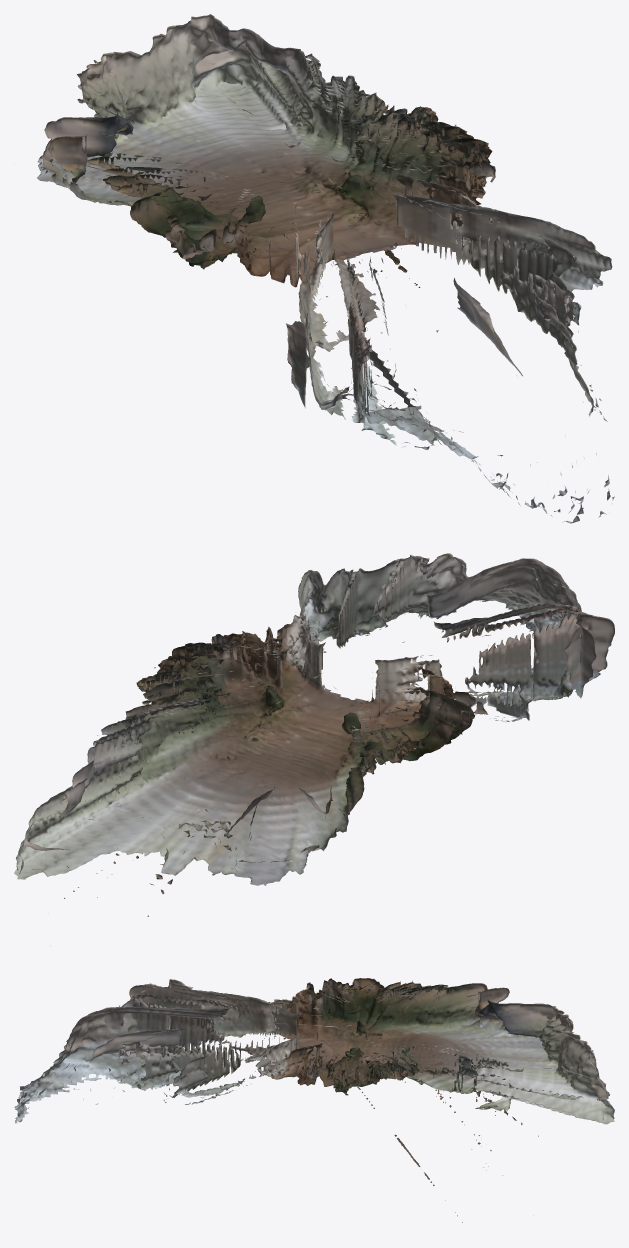
Rendered from world-1769836379166.glb.
The picture shows the model from 3 angles, top to bottom: view 1: azimuth 30°, elevation 25°; view 2: azimuth 150°, elevation 25°; view 3: azimuth 270°, elevation 25°; orthographic projection. The views are drawn at different scales.
Visible parts, largest first — view 1: world; view 2: world; view 3: world.
Boxes of the visible parts, x1=… form: world: x1=37, y1=14, x2=614, y2=523; world: x1=14, y1=553, x2=614, y2=916; world: x1=14, y1=978, x2=614, y2=1222.
Bounding box in the file's own units: 15.9 × 10.11 × 35.43.
